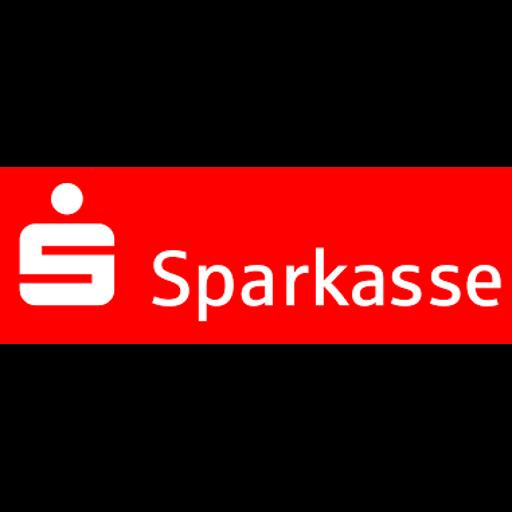Sparkasse Bank: (0, 167, 512, 344)
